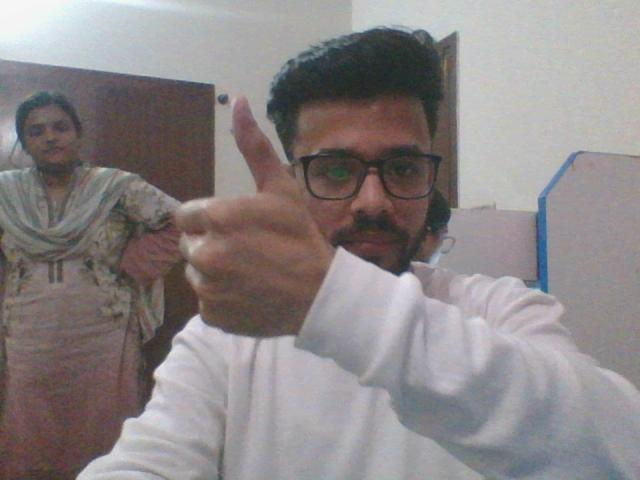thumbs-up: (171, 94, 309, 341)
